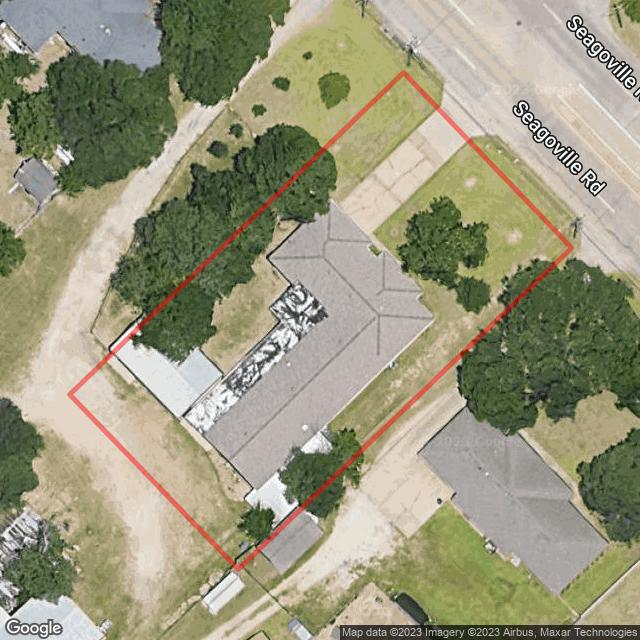Driveway: (340, 112, 464, 234)
Extra Driveway: (442, 90, 486, 136)
Extra Lawn: (146, 0, 408, 217), (474, 133, 583, 245), (91, 288, 141, 347), (406, 59, 442, 102)
House: (206, 204, 432, 486)
Other: (115, 310, 224, 417)
